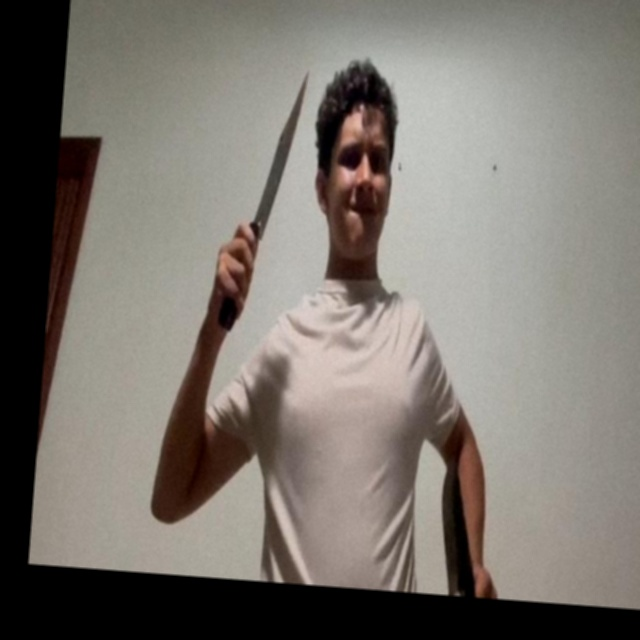Sharp-Object: (254, 71, 310, 241)
